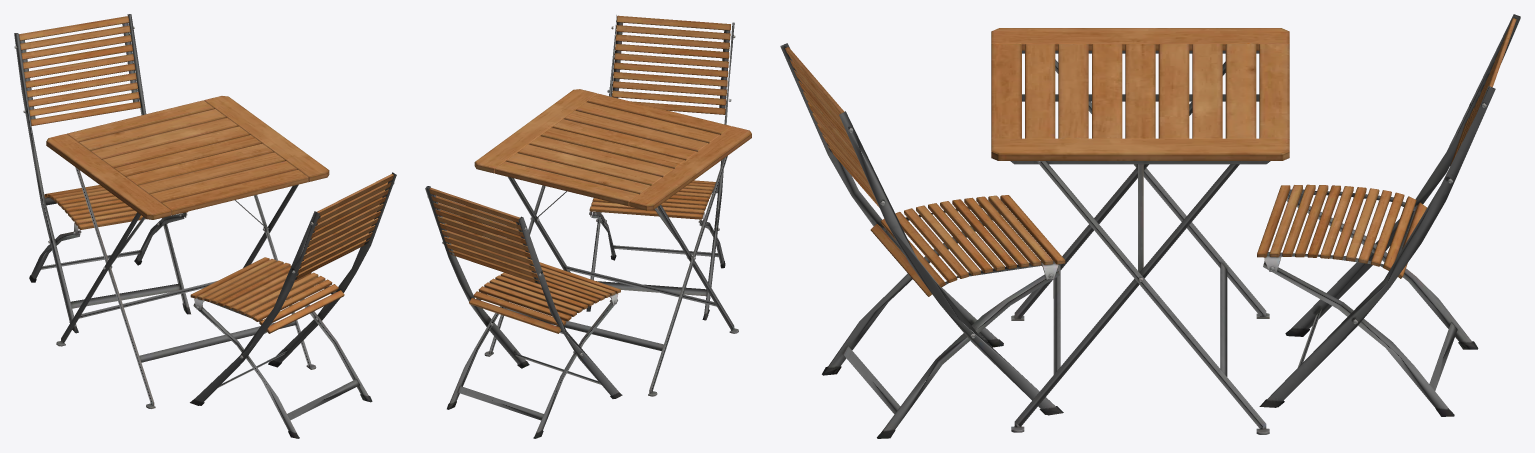
The model's file is outdoor_table_chair_set_01.glb.
The picture shows the model from 3 angles, left to right: view 1: azimuth 30°, elevation 25°; view 2: azimuth 150°, elevation 25°; view 3: azimuth 270°, elevation 25°; orthographic projection. The views are drawn at different scales.
Visible parts, largest first — view 1: outdoor_table_chair_set_01_chair_01, outdoor_table_chair_set_01_table; view 2: outdoor_table_chair_set_01_chair_01, outdoor_table_chair_set_01_table; view 3: outdoor_table_chair_set_01_table, outdoor_table_chair_set_01_chair_01.
Boxes of the visible parts, <box> form: outdoor_table_chair_set_01_chair_01: <box>14,14,396,438</box>; outdoor_table_chair_set_01_table: <box>46,96,329,408</box>; outdoor_table_chair_set_01_chair_01: <box>425,15,735,438</box>; outdoor_table_chair_set_01_table: <box>474,89,751,396</box>; outdoor_table_chair_set_01_table: <box>991,28,1289,434</box>; outdoor_table_chair_set_01_chair_01: <box>780,14,1520,438</box>.
Size of the model in its own units: 0.7405 by 0.8558 by 1.72.
2 materials, 2 textured.
